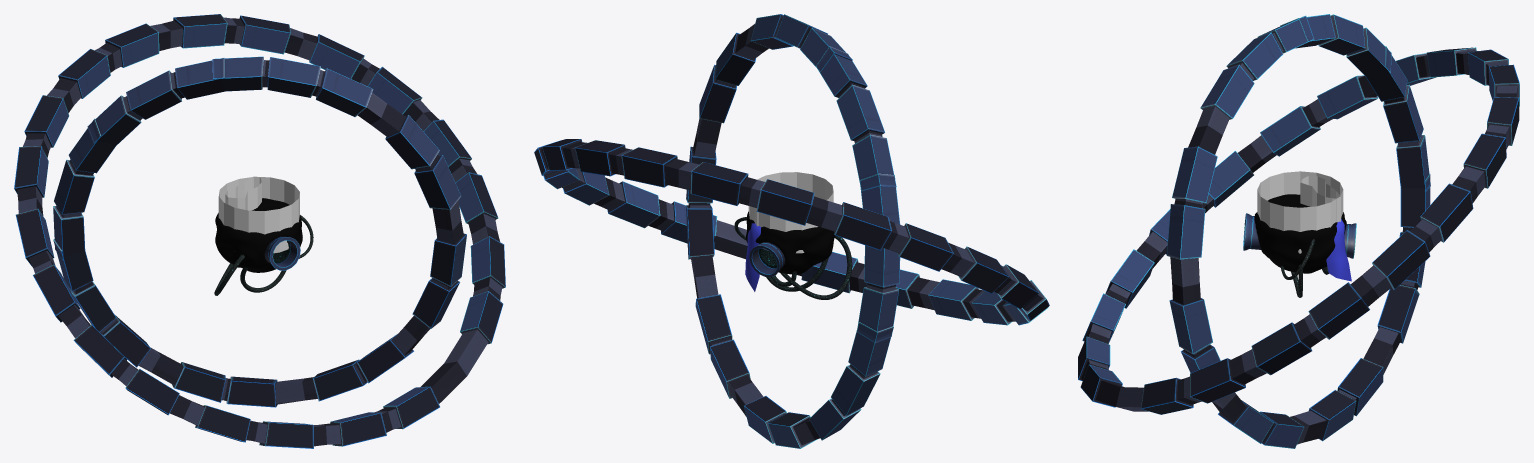
Rendered from Planet.fbx.
3 renders of one model, left to right at view 1: azimuth 30°, elevation 25°; view 2: azimuth 150°, elevation 25°; view 3: azimuth 270°, elevation 25°, orthographic. The views are drawn at different scales.
Visible parts, largest first — view 1: Cube.005, Cube.006, Cylinder.003, Cylinder, Plane, NurbsPath.001, Cylinder.001; view 2: Cube.005, Cube.006, Cylinder, Cylinder.003, NurbsPath.001, Cylinder.001, Cylinder.002; view 3: Cube.005, Cube.006, Cylinder.003, Cylinder, Plane, Cylinder.002, Cylinder.001, NurbsPath.001.
Part boxes in pixels (x1,y1,x2,y2): Cube.005: (14, 14, 505, 448); Cube.006: (53, 56, 466, 407); Cylinder.003: (218, 177, 299, 253); Cylinder: (215, 198, 302, 272); Plane: (225, 176, 261, 210); NurbsPath.001: (214, 215, 313, 295); Cylinder.001: (264, 236, 300, 270); Cube.005: (534, 139, 1049, 325); Cube.006: (686, 14, 900, 448); Cylinder: (746, 211, 835, 274); Cylinder.003: (748, 172, 833, 253); NurbsPath.001: (734, 217, 852, 299); Cylinder.001: (749, 242, 785, 277); Cylinder.002: (745, 223, 761, 291); Cube.005: (1078, 47, 1519, 414); Cube.006: (1166, 14, 1430, 448); Cylinder.003: (1257, 171, 1343, 253); Cylinder: (1254, 194, 1346, 273); Plane: (1300, 175, 1340, 222); Cylinder.002: (1326, 219, 1351, 281); Cylinder.001: (1243, 213, 1356, 258); NurbsPath.001: (1280, 239, 1328, 297).
Bounding box in the file's own units: 1068 × 854 × 872.
Materials: 3 (2 with a texture image).
